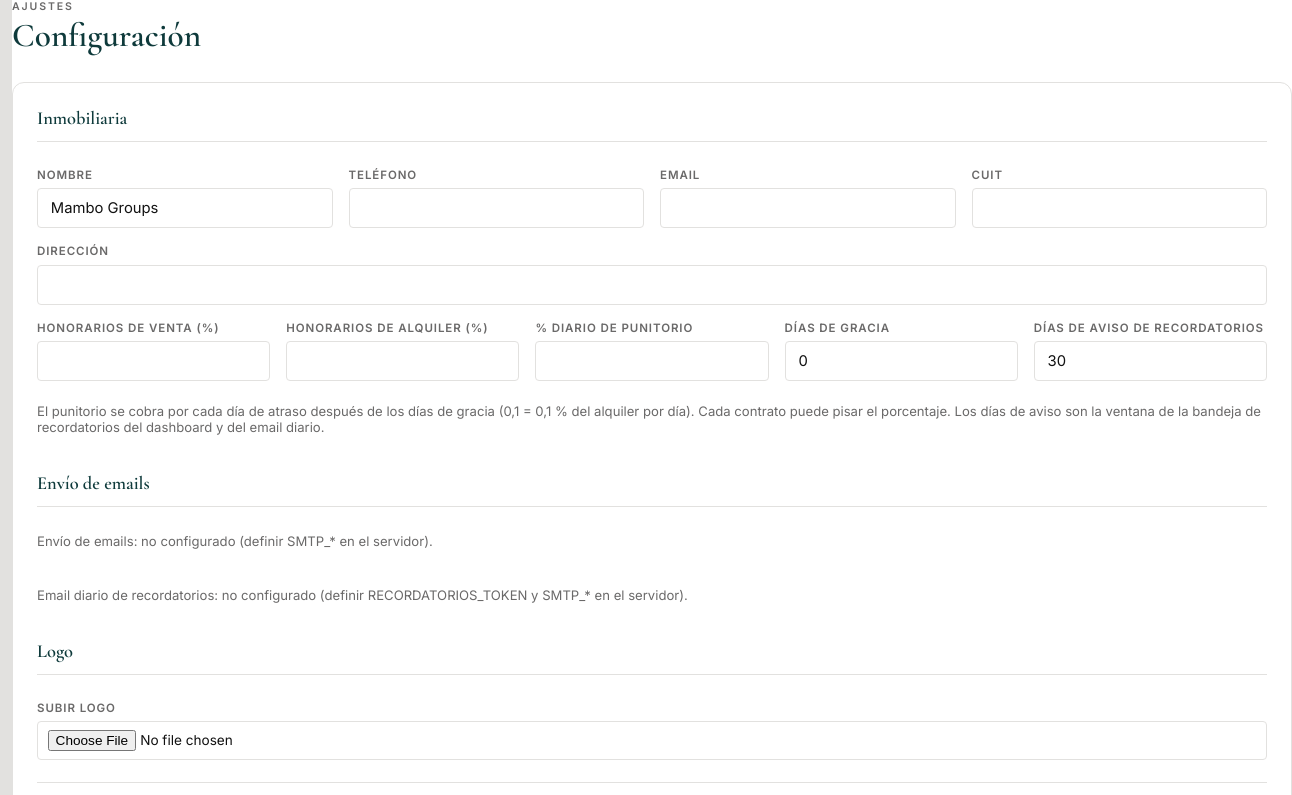
Test case: carga los datos y guarda los cambios
Check: the field showing "Mambo Groups" is shown, box [37,188,332,228]
Type "3" into the number field labelled "Honorarios de venta (%)" at (154, 361), box [37,341,270,381]
(page scrolled)
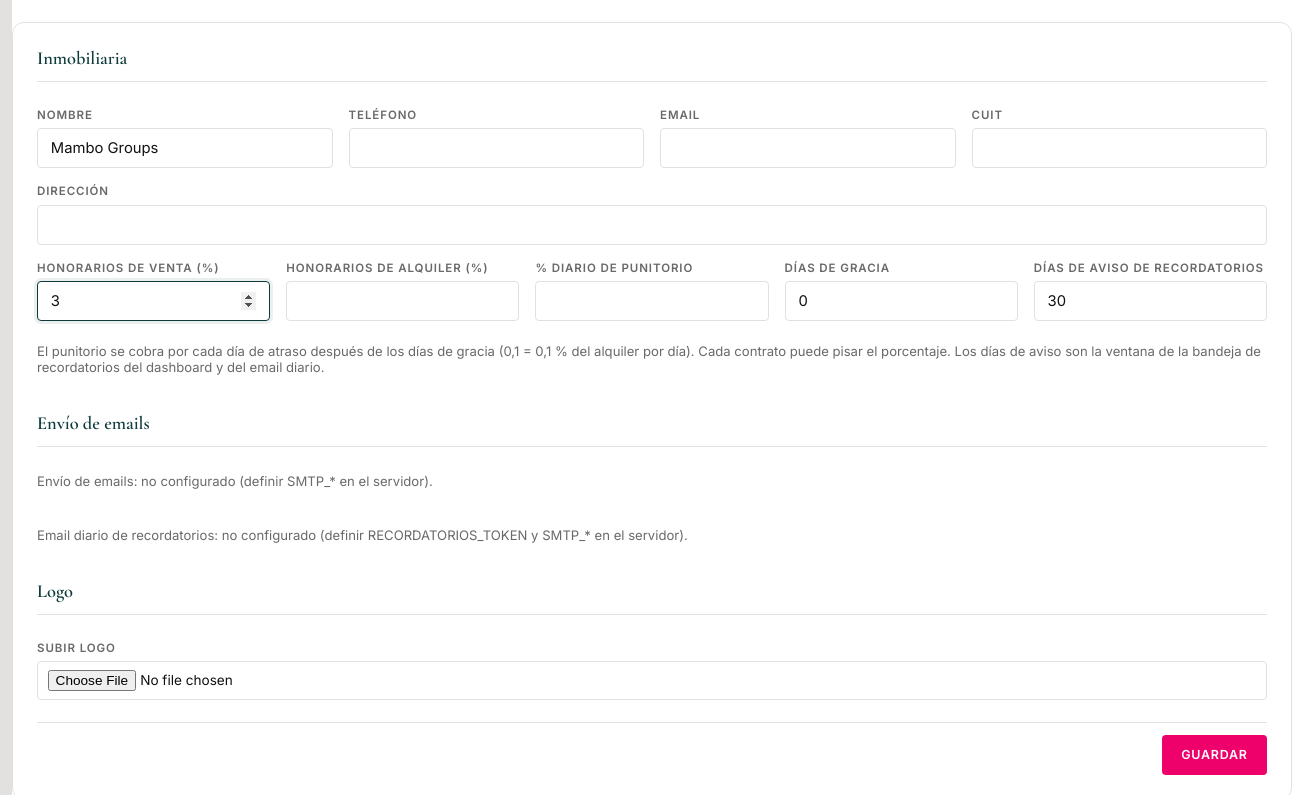
Click the button "Guardar" at (1214, 755), box [1162,735,1267,775]
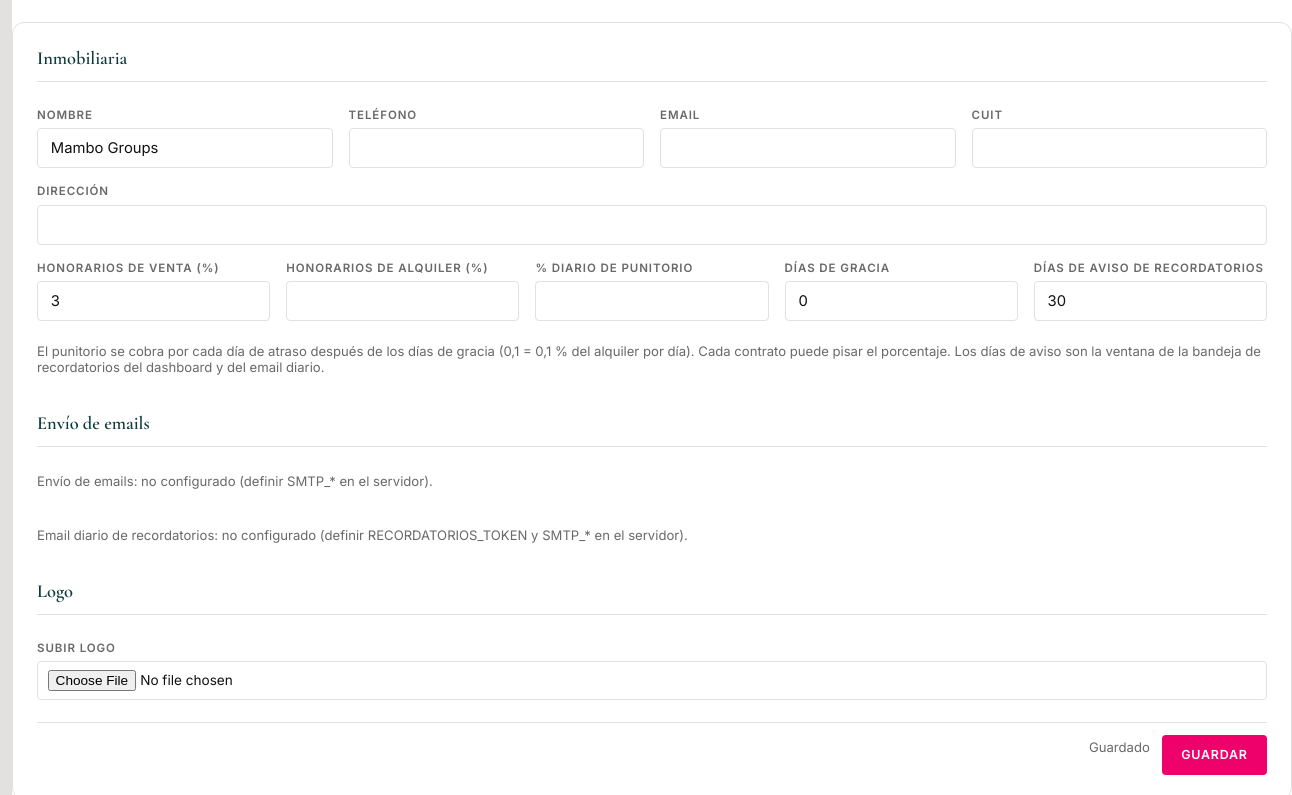
Check: the text "Guardado" is shown, box [1089,739,1150,755]
